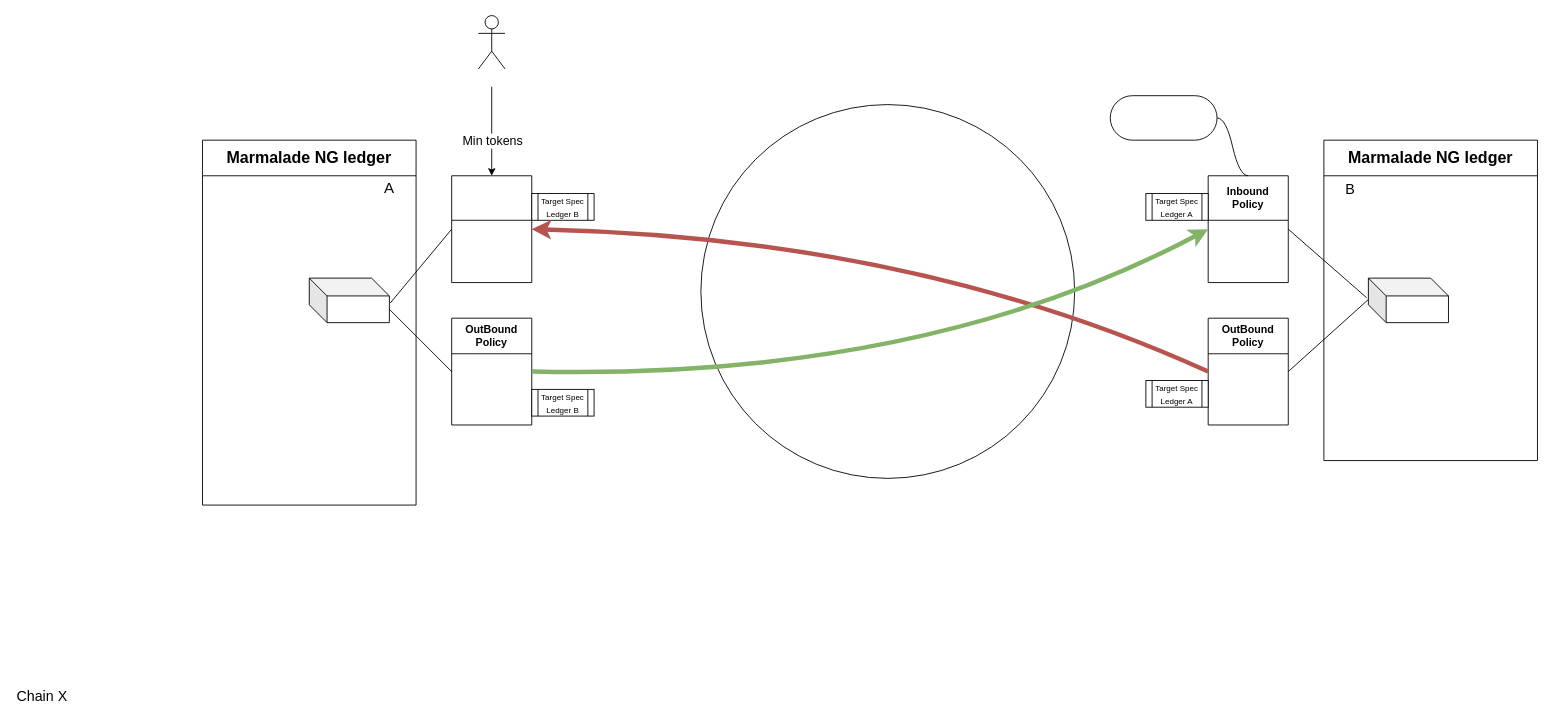
Some shapes in this 1553 by 725 pixel diagram are drawn without their labels. Each missing label, with the centre of its shape:
"Bridge" goes at point (887, 291).
"Creator" goes at point (491, 42).
"Inbound - Instant Mint Policy" goes at point (491, 229).
"Tolens cannot be minted here" goes at point (1163, 117).
